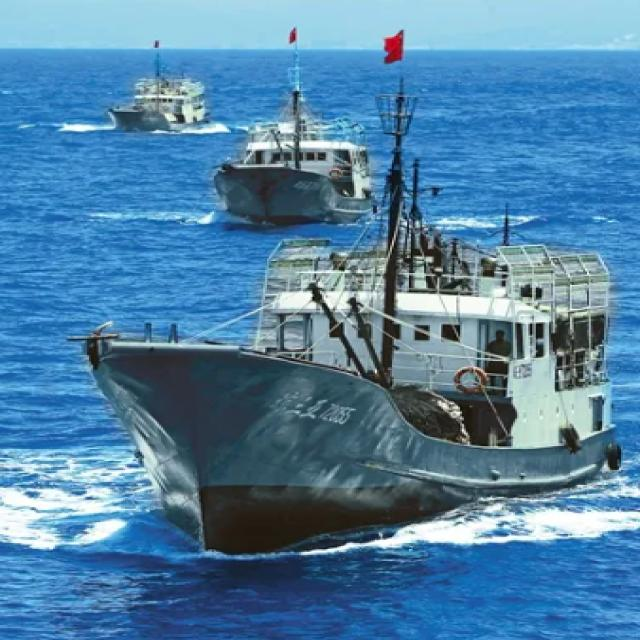fishing boat: (72, 203, 623, 558), (210, 72, 372, 220), (109, 37, 216, 133)
